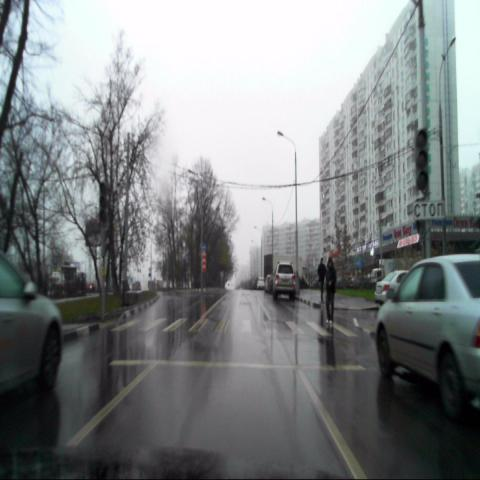6_16: (413, 200, 445, 219)
